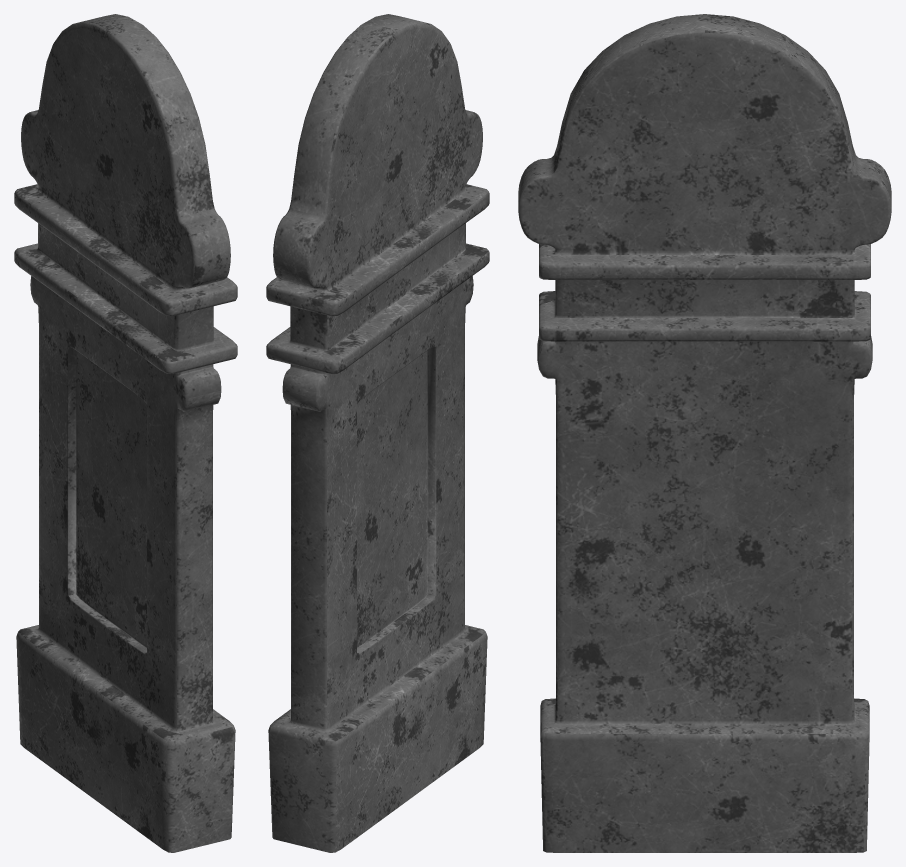
File: tombstone.glb
3 views of the same model, side by side, from view 1: azimuth 30°, elevation 25°; view 2: azimuth 150°, elevation 25°; view 3: azimuth 270°, elevation 25° (orthographic). The views are drawn at different scales.
Parts seen in each view (by area): view 1: tombstone; view 2: tombstone; view 3: tombstone.
Boxes of the visible parts, x1,y1,x2,y2 form: tombstone: (14, 14, 237, 852); tombstone: (266, 14, 489, 852); tombstone: (518, 14, 891, 852).
Size of the model in its own units: 0.1035 by 1.02 by 0.4244.
1 material, 1 textured.
